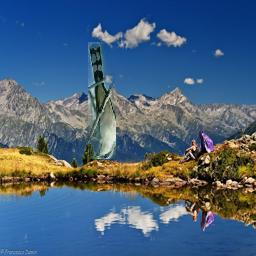Cuckoo: (88, 43, 116, 160)
